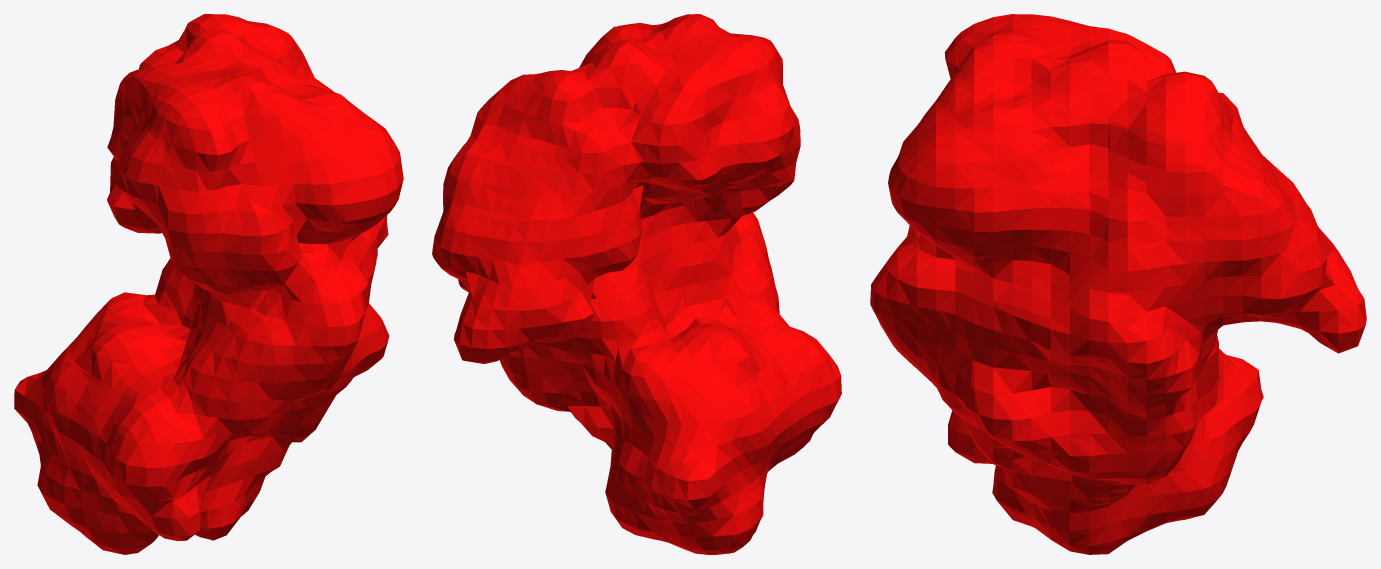
The model's file is Ras_related_protein_Rab_11B_Ra_coarse.dae.
3 renders of one model, left to right at view 1: azimuth 30°, elevation 25°; view 2: azimuth 150°, elevation 25°; view 3: azimuth 270°, elevation 25°, orthographic. The views are drawn at different scales.
Parts seen in each view (by area): view 1: Ras_related_protein_Rab_11B_Ra; view 2: Ras_related_protein_Rab_11B_Ra; view 3: Ras_related_protein_Rab_11B_Ra.
Boxes of the visible parts, x1,y1,x2,y2 form: Ras_related_protein_Rab_11B_Ra: [14, 14, 403, 554]; Ras_related_protein_Rab_11B_Ra: [432, 14, 841, 554]; Ras_related_protein_Rab_11B_Ra: [870, 14, 1366, 554].
Bounding box in the file's own units: 62.87 × 90.71 × 76.38.
